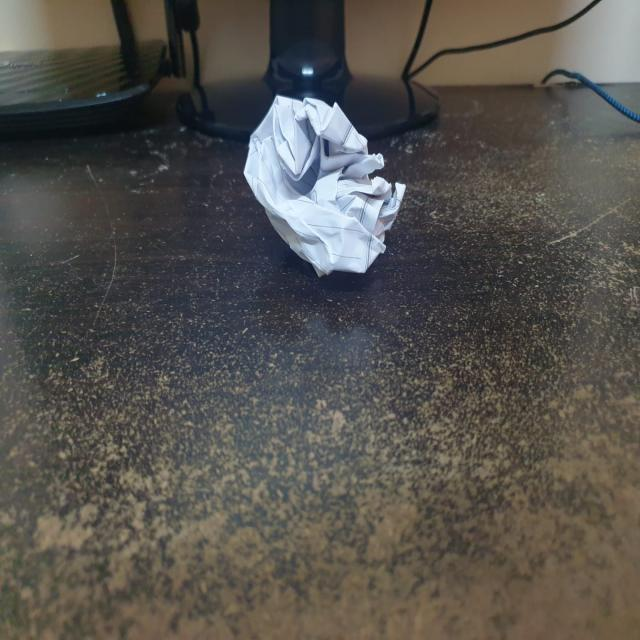Paper: (242, 93, 407, 275)
